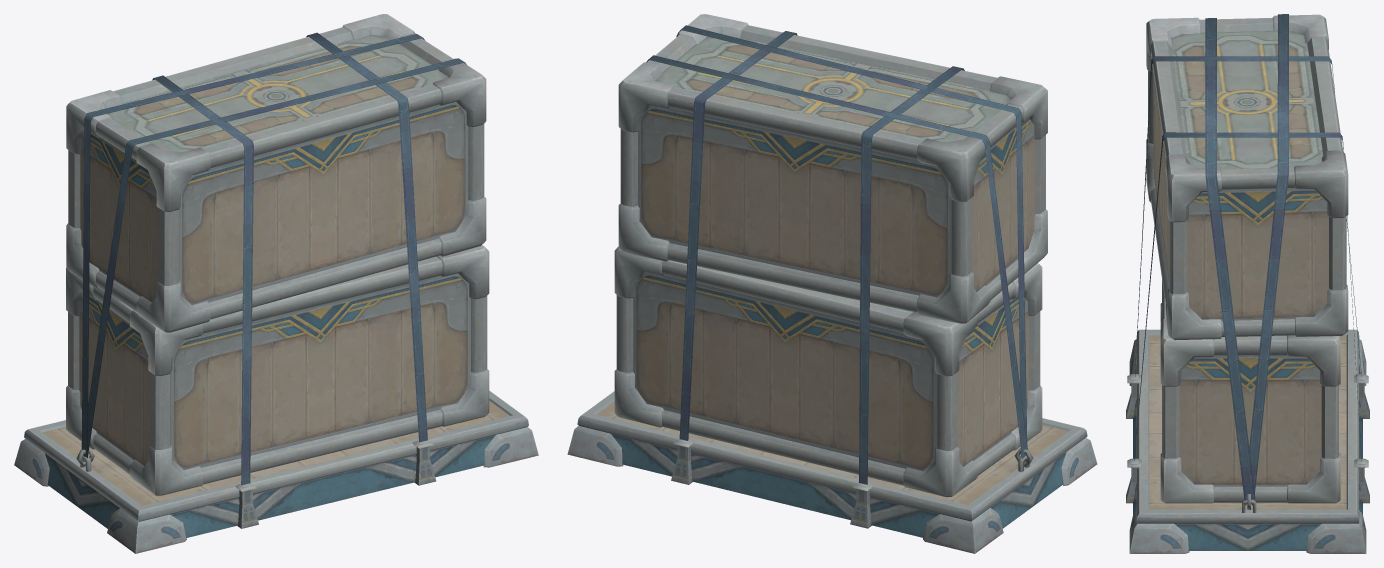
Rendered from Homeworld_Exterior_Fd_Decoration_Prop_Jizhuangxiang_03_Lod0.fbx.
3 views of the same model, side by side, from view 1: azimuth 30°, elevation 25°; view 2: azimuth 150°, elevation 25°; view 3: azimuth 270°, elevation 25° (orthographic). The views are drawn at different scales.
Visible parts, largest first — view 1: Area_Fd_Prop_Common_Jizhuangxiang_06_Lod0; view 2: Area_Fd_Prop_Common_Jizhuangxiang_06_Lod0; view 3: Area_Fd_Prop_Common_Jizhuangxiang_06_Lod0.
Part boxes in pixels (x1,y1,x2,y2): Area_Fd_Prop_Common_Jizhuangxiang_06_Lod0: (14, 14, 538, 553); Area_Fd_Prop_Common_Jizhuangxiang_06_Lod0: (567, 14, 1097, 553); Area_Fd_Prop_Common_Jizhuangxiang_06_Lod0: (1126, 14, 1369, 553).
Bounding box in the file's own units: 6.56 × 5.8 × 3.52.
